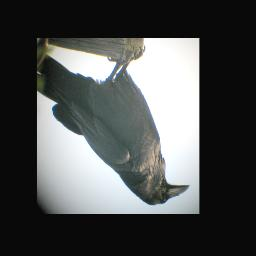Crow: (37, 45, 191, 207)
